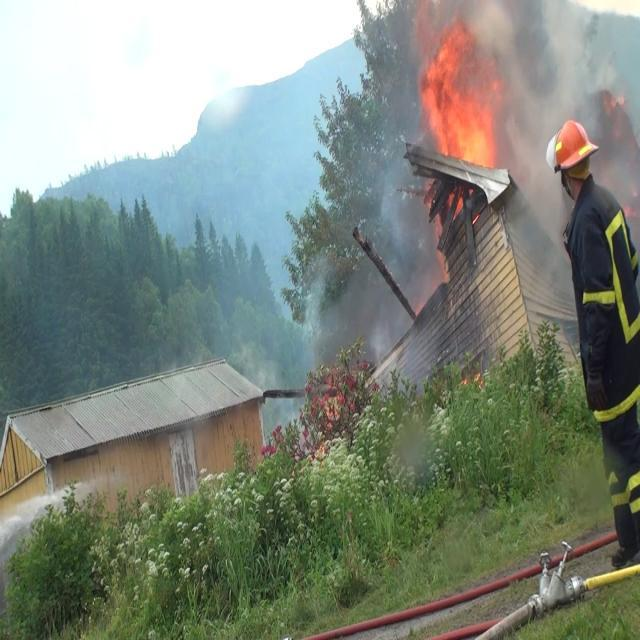Fire: (414, 7, 502, 179)
